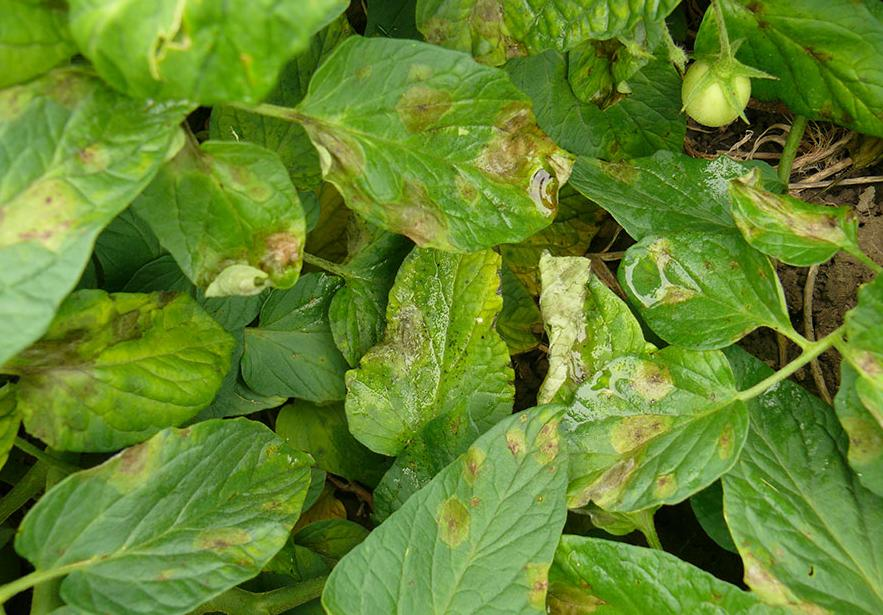Tomato leaf late blight: (257, 357, 595, 615), (298, 20, 570, 268), (14, 400, 320, 615), (358, 226, 550, 488), (0, 274, 246, 463), (535, 332, 769, 526), (131, 100, 318, 336), (612, 222, 807, 362), (713, 153, 864, 275)
